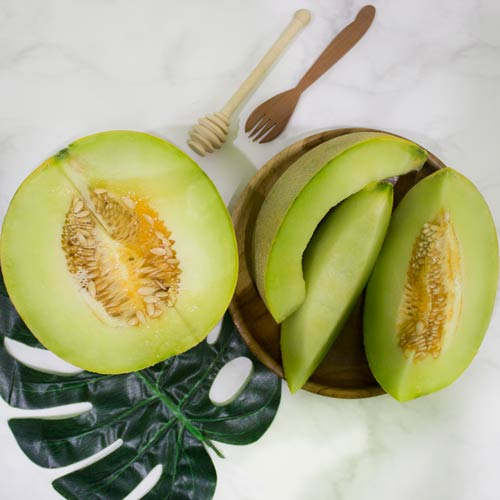Melon: (240, 123, 439, 308), (281, 185, 403, 380)
